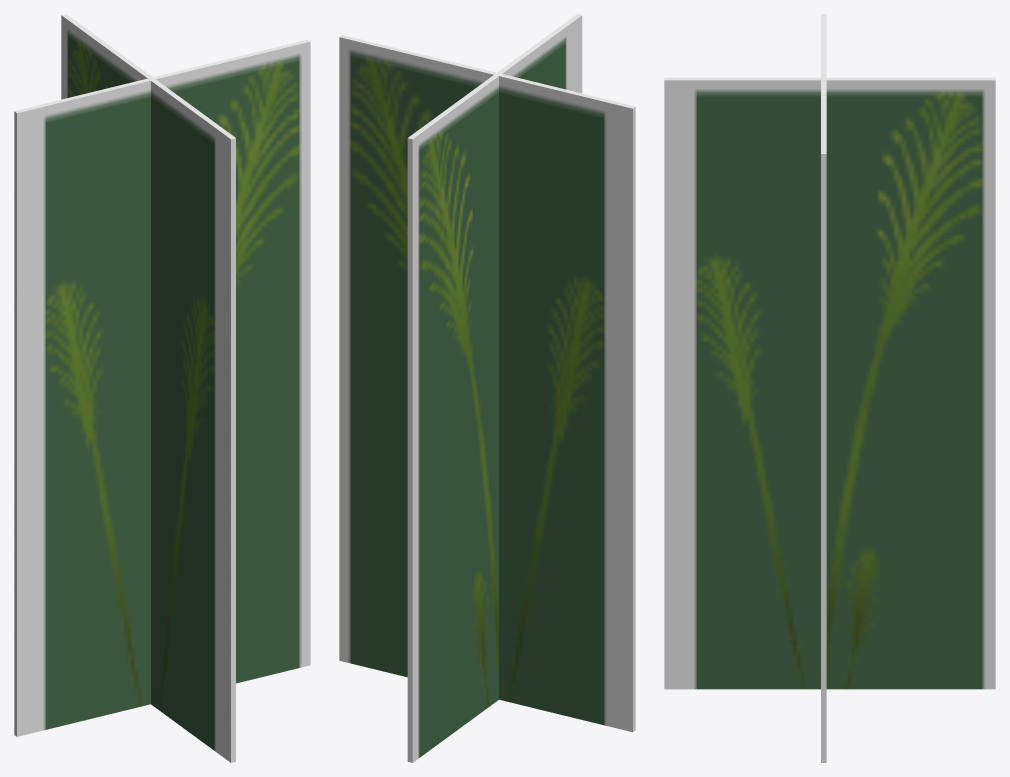
Rendered from Grass6.fbx.
3 renders of one model, left to right at view 1: azimuth 30°, elevation 25°; view 2: azimuth 150°, elevation 25°; view 3: azimuth 270°, elevation 25°, orthographic. The views are drawn at different scales.
Visible parts, largest first — view 1: n_grass_diff_0_47.002; view 2: n_grass_diff_0_47.002; view 3: n_grass_diff_0_47.002.
Part boxes in pixels (<box>): n_grass_diff_0_47.002: <box>14,14,310,762</box>; n_grass_diff_0_47.002: <box>339,14,635,762</box>; n_grass_diff_0_47.002: <box>664,14,995,762</box>.
Bounding box in the file's own units: 57.42 × 117 × 57.42.
